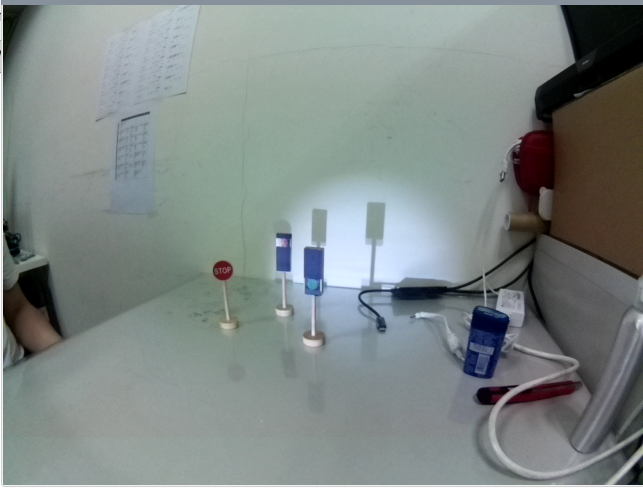Green: (302, 245, 329, 304)
Red: (271, 230, 293, 280)
Stop: (212, 260, 240, 286)
